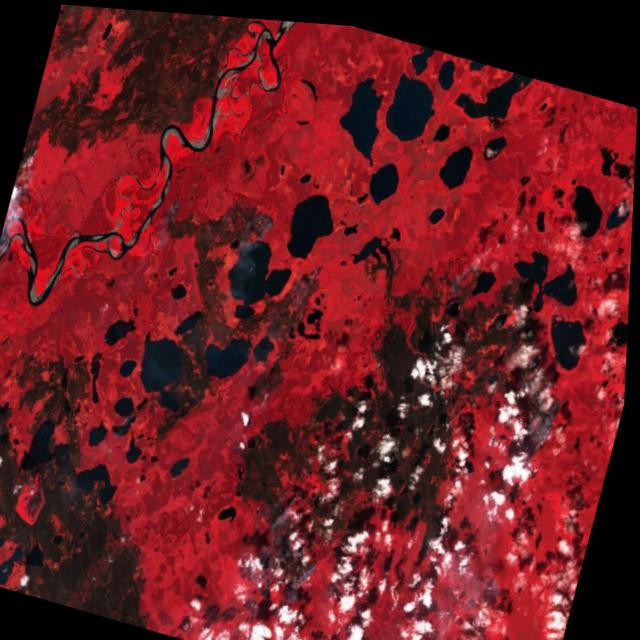fire: (516, 340, 584, 451), (234, 189, 285, 256), (263, 465, 315, 529), (11, 131, 50, 208), (159, 183, 192, 233)
